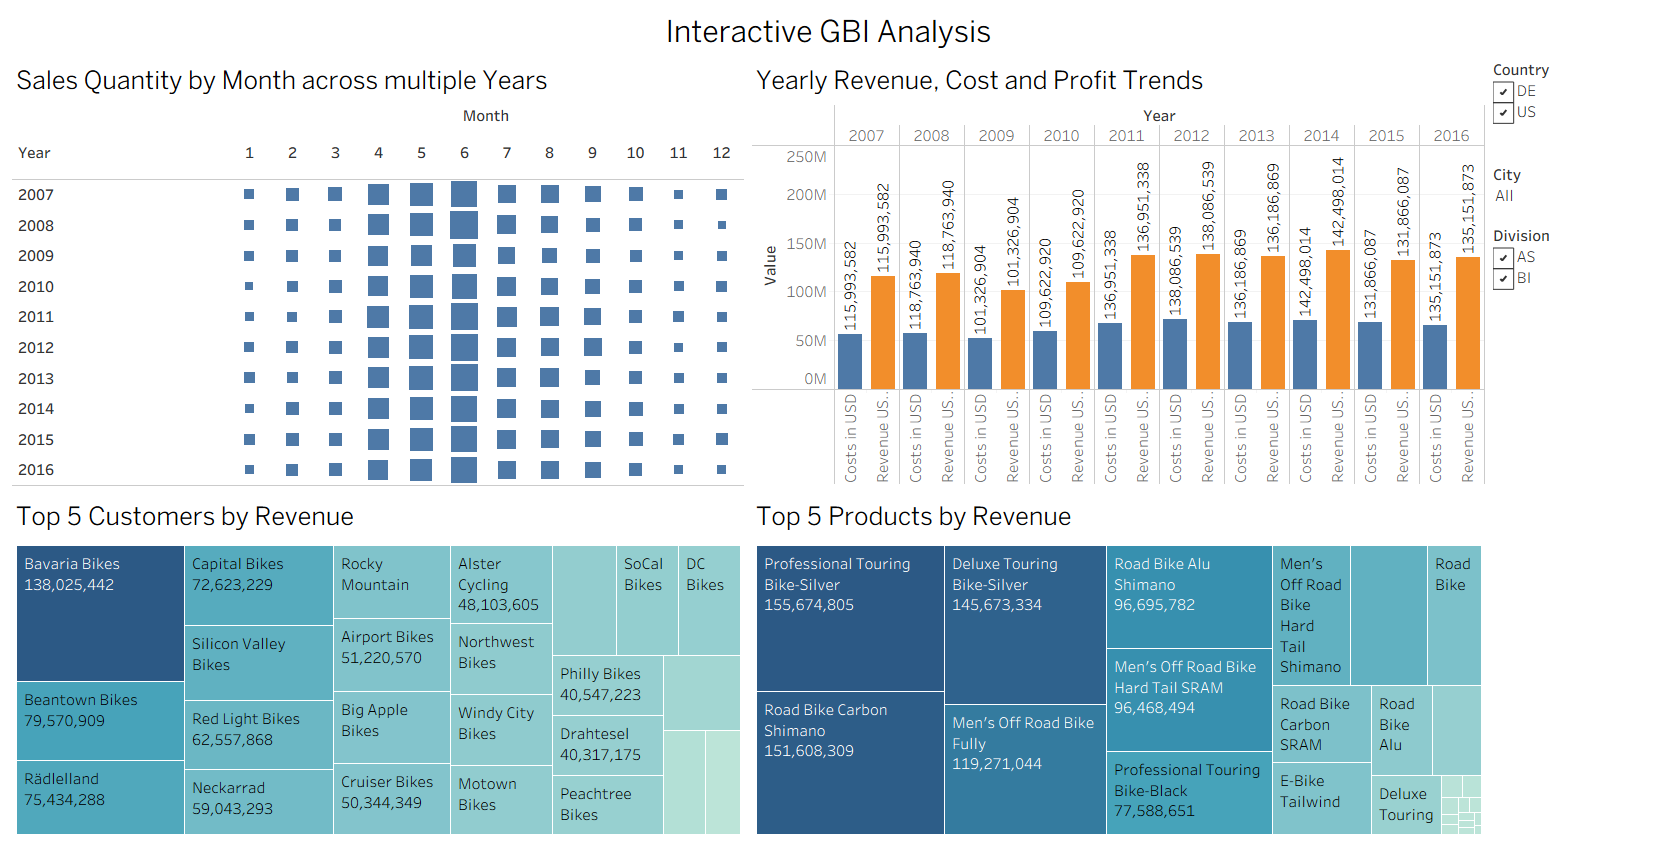

The page's visual inventory and layout, read from the dashboard file:
{"tool":"tableau","page":{"name":"Interactive GBI Analysis","canvas":[1000,1000],"units":"permille","ordinal":1},"visuals":[{"type":"title","box":[8.6,9.5,982.7,54.7]},{"type":"worksheet","title":"Sales Quantities by Month across multiple Years","mark":"Automatic","rows":["YEAR"],"cols":["MONTH"],"box":[8.6,64.2,404.9,511.4]},{"type":"worksheet","title":"Yearly Revenue and Cost Trends","mark":"Automatic","cols":["YEAR"],"box":[413.5,64.2,405,511.4]},{"type":"filter","title":"Sales Quantities by Month across multiple Years","param":"[federated.0ixjiiv0kj4zjk119lfm21yofpn2].[none:Country:nk]","box":[818.6,64.2,172.8,124.9]},{"type":"filter","title":"Sales Quantities by Month across multiple Years","param":"[federated.0ixjiiv0kj4zjk119lfm21yofpn2].[none:City:nk]","box":[818.6,189.1,172.8,72.5]},{"type":"filter","title":"Sales Quantities by Month across multiple Years","param":"[federated.0ixjiiv0kj4zjk119lfm21yofpn2].[none:Division:nk]","box":[818.6,261.6,172.8,124.9]},{"type":"worksheet","title":"Top 5 Customers by Revenue","mark":"Automatic","box":[8.6,575.6,404.9,414.9]},{"type":"worksheet","title":"Top 5 Products by Revenue ","mark":"Automatic","box":[413.5,575.6,405,414.9]}]}

Visuals, with their boxes on the dashboard's canvas, which has no fixed pixel size, in thousandths of its width and height (x1, y1, x2, y2). These are canvas units, not pixel positions in the 1657x851 screenshot, which may show the page scaled, cropped or inside an application window:
title: crop(9, 10, 991, 64)
"Sales Quantities by Month across multiple Years" worksheet: crop(9, 64, 414, 576)
"Yearly Revenue and Cost Trends" worksheet: crop(414, 64, 818, 576)
"Sales Quantities by Month across multiple Years" filter: crop(819, 64, 991, 189)
"Sales Quantities by Month across multiple Years" filter: crop(819, 189, 991, 262)
"Sales Quantities by Month across multiple Years" filter: crop(819, 262, 991, 386)
"Top 5 Customers by Revenue" worksheet: crop(9, 576, 414, 990)
"Top 5 Products by Revenue " worksheet: crop(414, 576, 818, 990)
